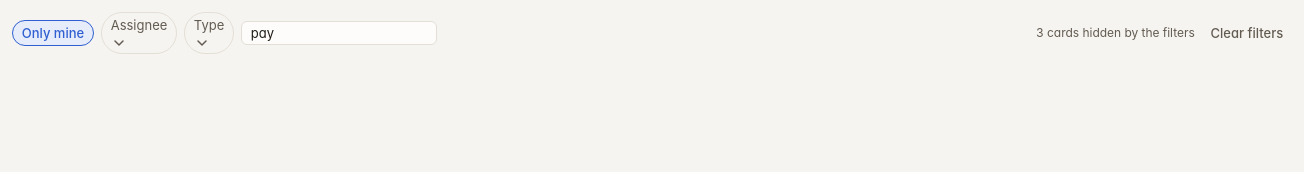
the quick filters › say how many cards are hidden, and Clear empties the filter and the box
Expected: the message reads "3 cards hidden by the filters", [1036,25,1195,40]
Expected: the search field named "Filter cards by key or summary" holds "pay", [241,20,437,45]
What coordinates should you click on to do the following:
click the button "Clear filters"
I would click on:
 (1247, 33)
Its box is [1202,20,1292,45].
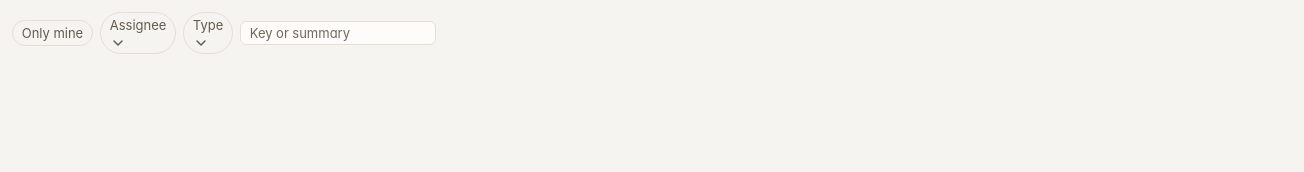
Expected: the search field is empty, [240,20,436,45]
Expected: the button "Clear filters" is gone
